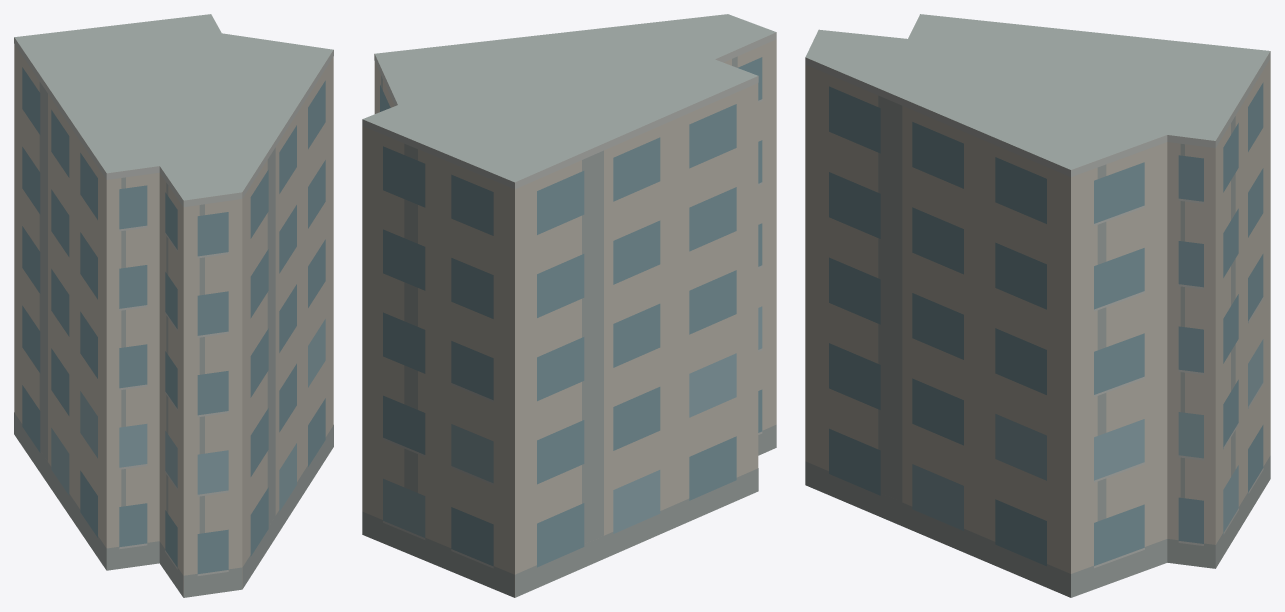
File: survey-upis-32828622.glb
The picture shows the model from 3 angles, left to right: view 1: azimuth 30°, elevation 25°; view 2: azimuth 150°, elevation 25°; view 3: azimuth 270°, elevation 25°; orthographic projection. The views are drawn at different scales.
Visible parts, largest first — view 1: survey-upis-32828622.tmp; view 2: survey-upis-32828622.tmp; view 3: survey-upis-32828622.tmp.
Part boxes in pixels (x1,y1,x2,y2): survey-upis-32828622.tmp: [14, 14, 333, 597]; survey-upis-32828622.tmp: [362, 14, 776, 597]; survey-upis-32828622.tmp: [805, 14, 1270, 597].
Bounding box in the file's own units: 11.39 × 14.55 × 14.35.
